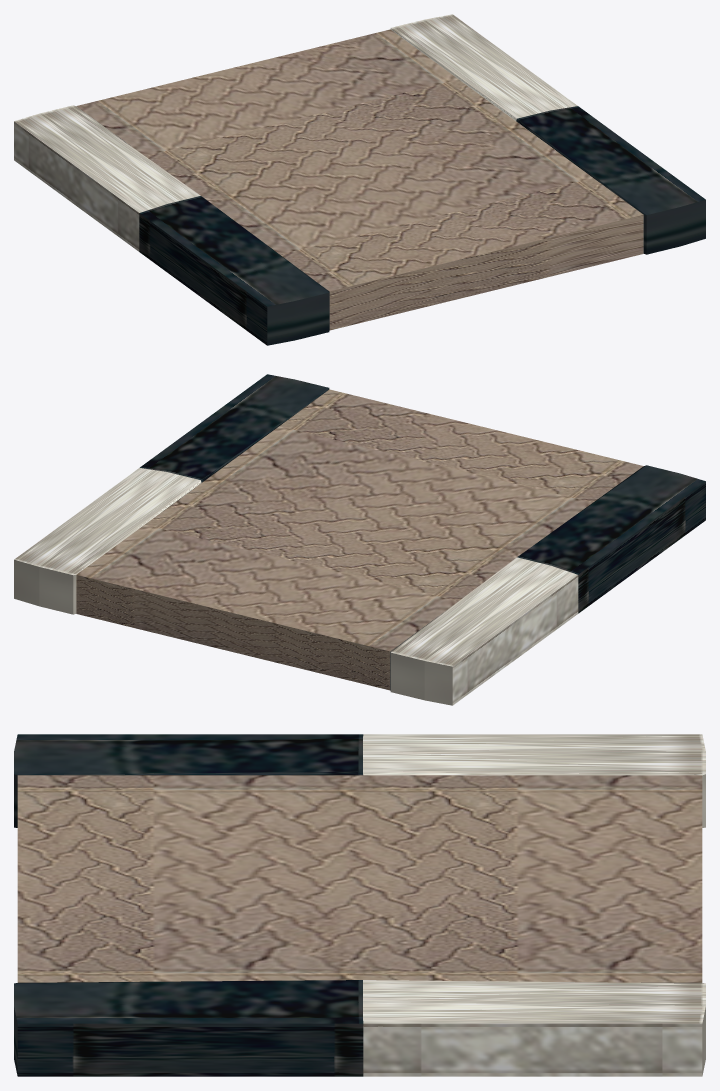
The model's file is Road curb Main.fbx.
3 views of the same model, one above another, from view 1: azimuth 30°, elevation 25°; view 2: azimuth 150°, elevation 25°; view 3: azimuth 270°, elevation 25° (orthographic). The views are drawn at different scales.
Parts seen in each view (by area): view 1: Cube.002; view 2: Cube.002; view 3: Cube.002.
Boxes of the visible parts, x1=… form: Cube.002: x1=14, y1=14, x2=705, y2=345; Cube.002: x1=14, y1=374, x2=705, y2=705; Cube.002: x1=14, y1=734, x2=705, y2=1076.
Bounding box in the file's own units: 400 × 36.36 × 404.
3 materials, 3 textured.
